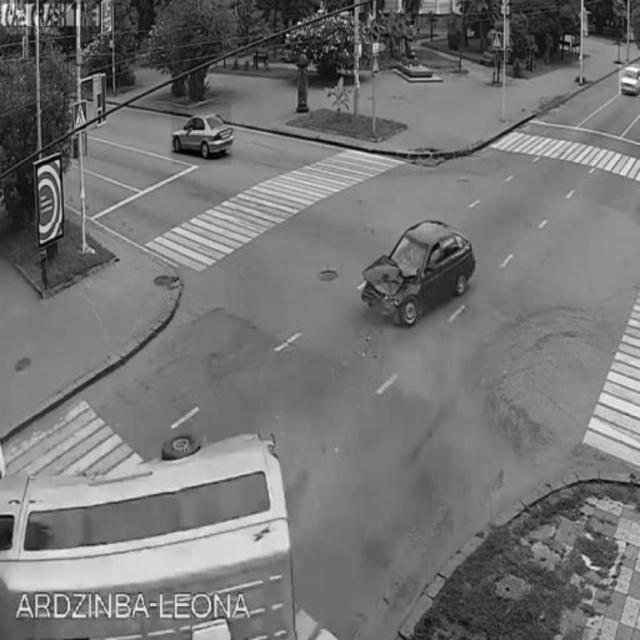accident: (10, 223, 474, 631)
vehicle: (171, 102, 231, 166), (619, 64, 639, 94)
